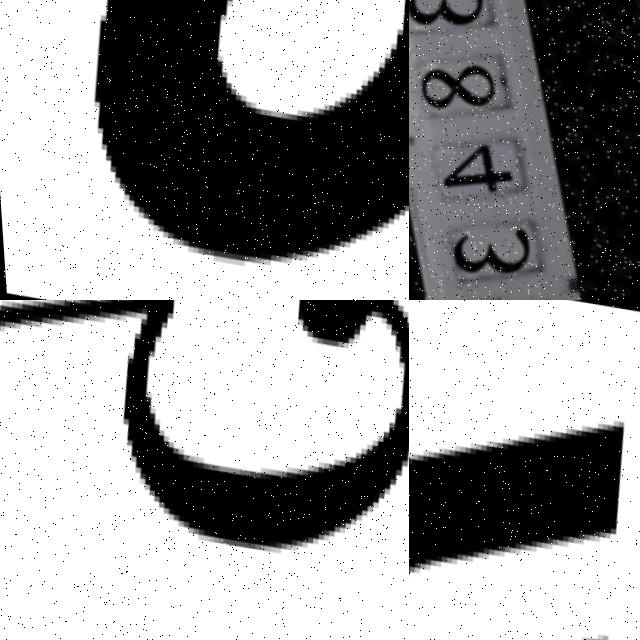3: (427, 201, 538, 291), (409, 0, 494, 44)
4: (415, 122, 523, 208)
5: (0, 300, 409, 609)
8: (409, 34, 506, 123)
H: (409, 420, 626, 582)
O: (39, 0, 409, 300)
